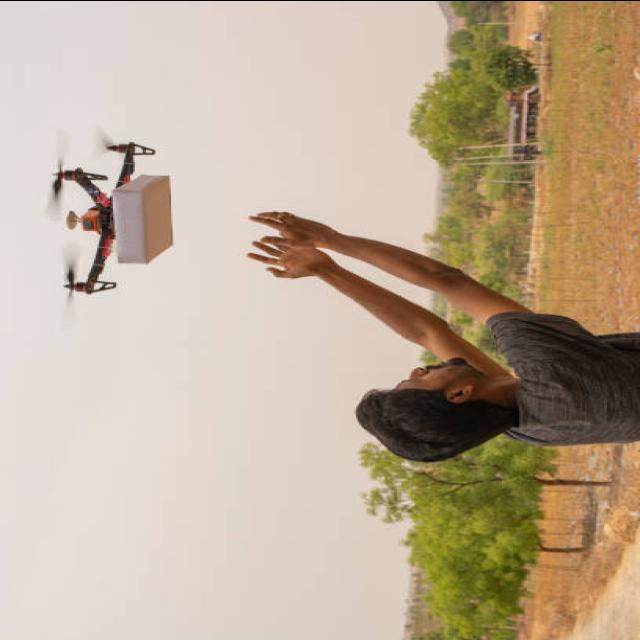drone: (44, 128, 172, 312)
